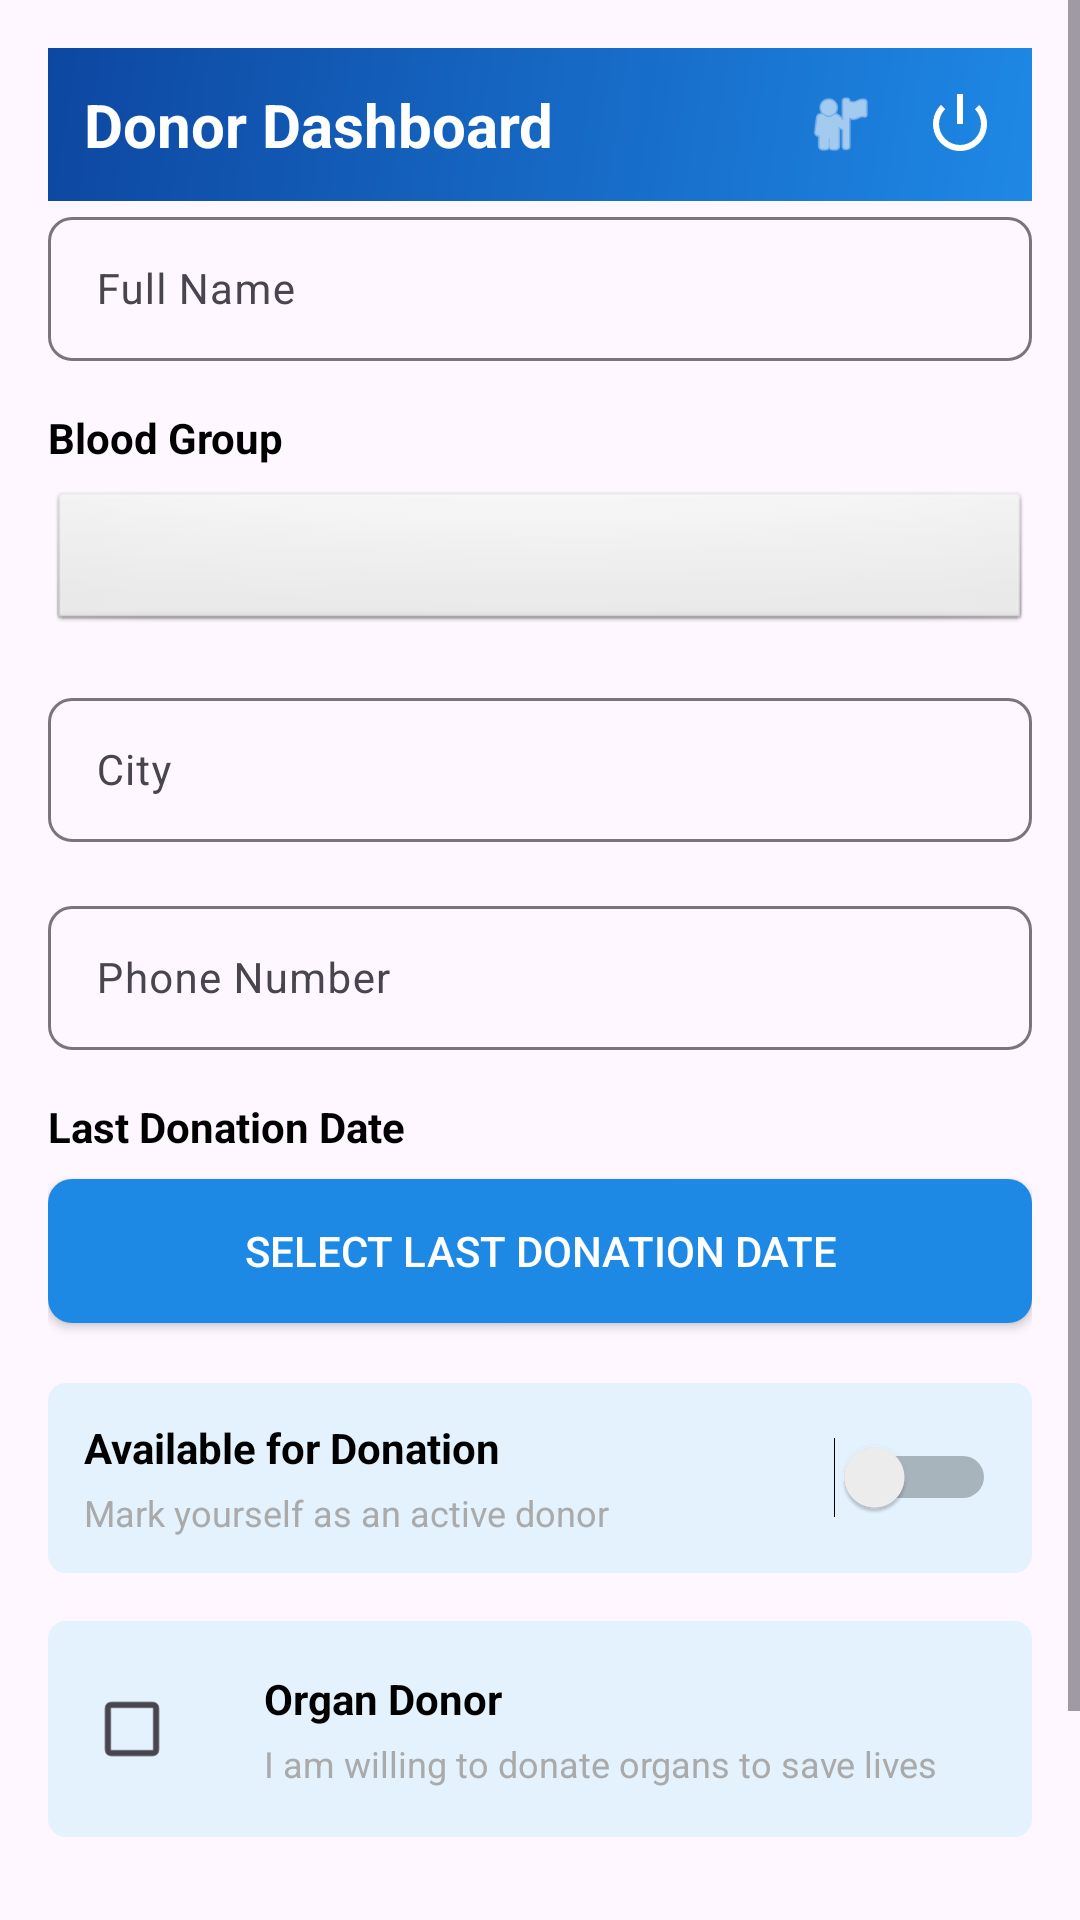

Where icons sit on this 1080×1920 app screen, as (x1, y1, x2, y2):
lock power off: (933, 94, 987, 151)
myplaces: (814, 97, 868, 151)
